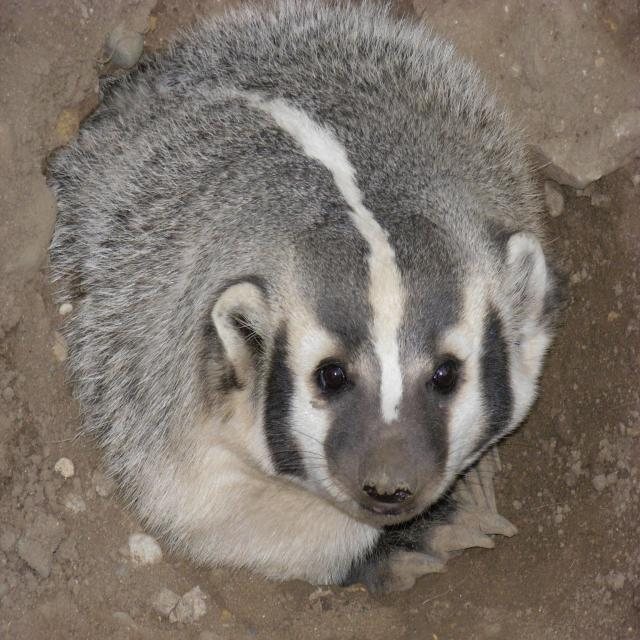badger: (48, 2, 560, 591)
